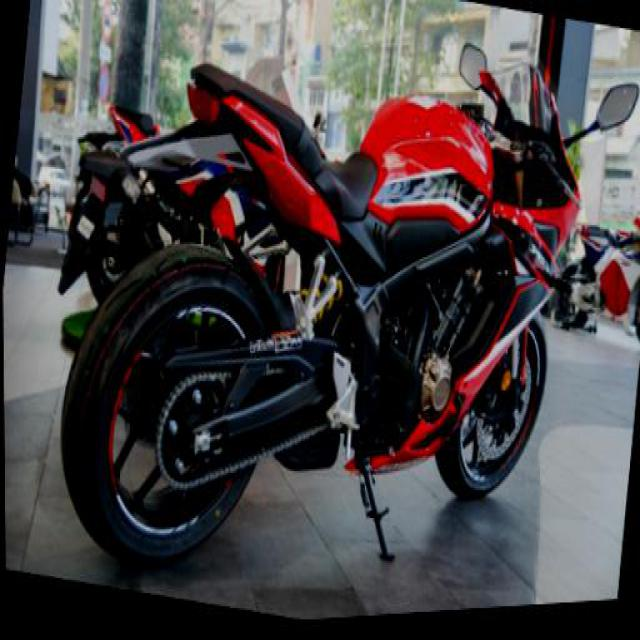CBR650R: (42, 0, 582, 636)
